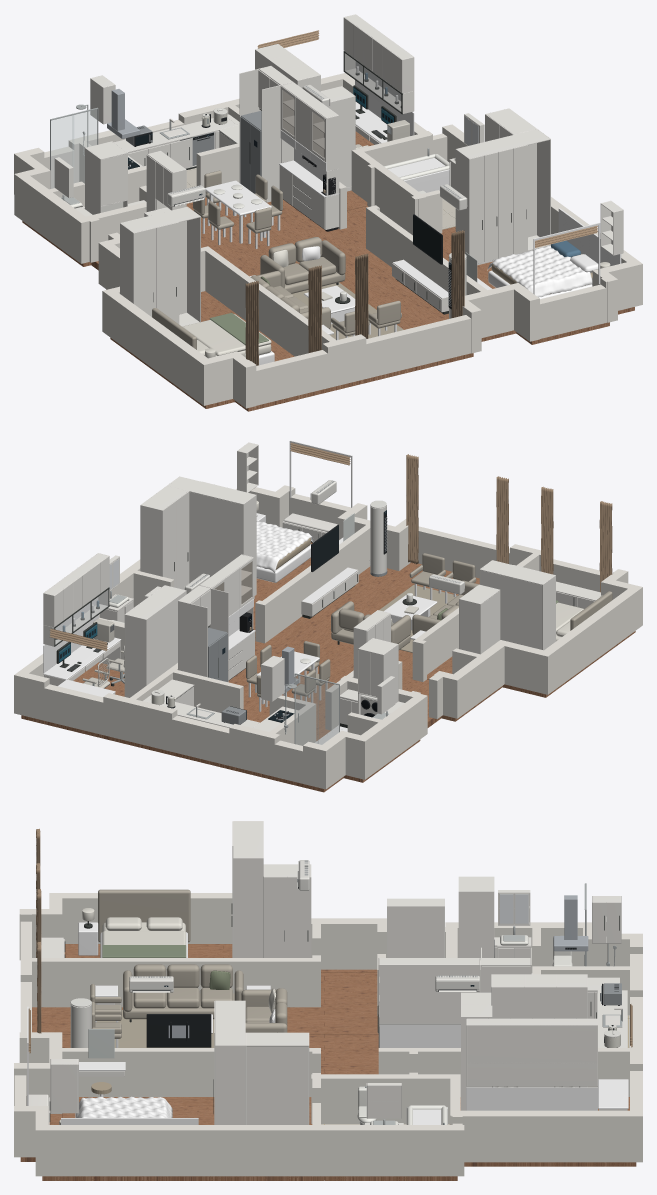
Rendered from apartment-design-cutaway.glb.
3 renders of one model, top to bottom at view 1: azimuth 30°, elevation 25°; view 2: azimuth 150°, elevation 25°; view 3: azimuth 270°, elevation 25°, orthographic. The views are drawn at different scales.
Parts seen in each view (by area): view 1: Walls_0_to_1m, Overall_floor_slab, Master_soft_ochre_duvet, V10_C05_main_bay2_leaf1_white_door, C12_fridge_enclosure_south, V10_C05_main_bay1_leaf1_white_door, V10_C06_main_bay2_leaf1_white_door, V10_C06_main_bay1_leaf2_white_door, V10_C06_main_bay2_leaf2_white_door, V10_C06_main_bay1_leaf1_white_door, V10_C05_main_right_side, V8_S01_return_back (+39 smaller); view 2: Walls_0_to_1m, Overall_floor_slab, V10_C06_main_back, V10_C05_main_back, V8_S01_main_back, C12_fridge_enclosure_north, V8_S01_main_right_side, Master_soft_ochre_duvet, SH01_V10_sliding_clear_glass, V10_C06_east_return_left_side, V5_Living_gathered_linen_1, V10_C06_east_return_bay2_leaf1_white_door (+35 smaller); view 3: Walls_0_to_1m, Overall_floor_slab, S04_back, V10_C06_east_return_back, C02_upper_back, S02_backsplash, S05_back, V10_C05_main_right_side, Bed_B_headboard, C01_v10_back, V10_C06_main_right_side, L01_V10_machine_side_1 (+40 smaller).
Boxes of the visible parts, x1,y1,x2,y2 form: Walls_0_to_1m: (14,73,642,408); Overall_floor_slab: (22,197,634,411); Master_soft_ochre_duvet: (487,245,592,297); V10_C05_main_bay2_leaf1_white_door: (156,222,179,324); C12_fridge_enclosure_south: (261,82,293,202); V10_C05_main_bay1_leaf1_white_door: (133,227,156,316); V10_C06_main_bay2_leaf1_white_door: (498,148,513,258); V10_C06_main_bay1_leaf2_white_door: (484,152,498,261); V10_C06_main_bay2_leaf2_white_door: (513,145,527,254); V10_C06_main_bay1_leaf1_white_door: (469,155,483,263); V10_C05_main_right_side: (187,206,200,321); V8_S01_return_back: (329,96,354,187); Walls_0_to_1m: (14,485,642,789); Overall_floor_slab: (21,562,635,792); V10_C06_main_back: (189,492,242,582); V10_C05_main_back: (480,570,542,649); V8_S01_main_back: (147,591,186,684); C12_fridge_enclosure_north: (178,600,207,677); V8_S01_main_right_side: (125,614,146,697); Master_soft_ochre_duvet: (256,521,314,572); SH01_V10_sliding_clear_glass: (295,675,318,745); V10_C06_east_return_left_side: (140,505,162,576); V5_Living_gathered_linen_1: (406,454,418,564); V10_C06_east_return_bay2_leaf1_white_door: (176,491,189,589); Walls_0_to_1m: (14,893,642,1176); Overall_floor_slab: (20,945,636,1180); S04_back: (467,1025,597,1063); V10_C06_east_return_back: (246,1046,308,1124); C02_upper_back: (380,965,479,1023); S02_backsplash: (466,1087,597,1110); S05_back: (467,1063,597,1086); V10_C05_main_right_side: (233,858,263,957); Bed_B_headboard: (98,889,190,942); C01_v10_back: (388,906,443,957); V10_C06_main_right_side: (215,1045,245,1124); L01_V10_machine_side_1: (458,891,494,959).
Size of the model in its own units: 11.09 by 3.01 by 12.41.
Materials: 55 (1 with a texture image).
